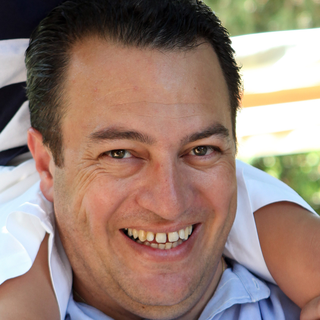eye: (94, 143, 144, 167), (180, 140, 226, 164)
